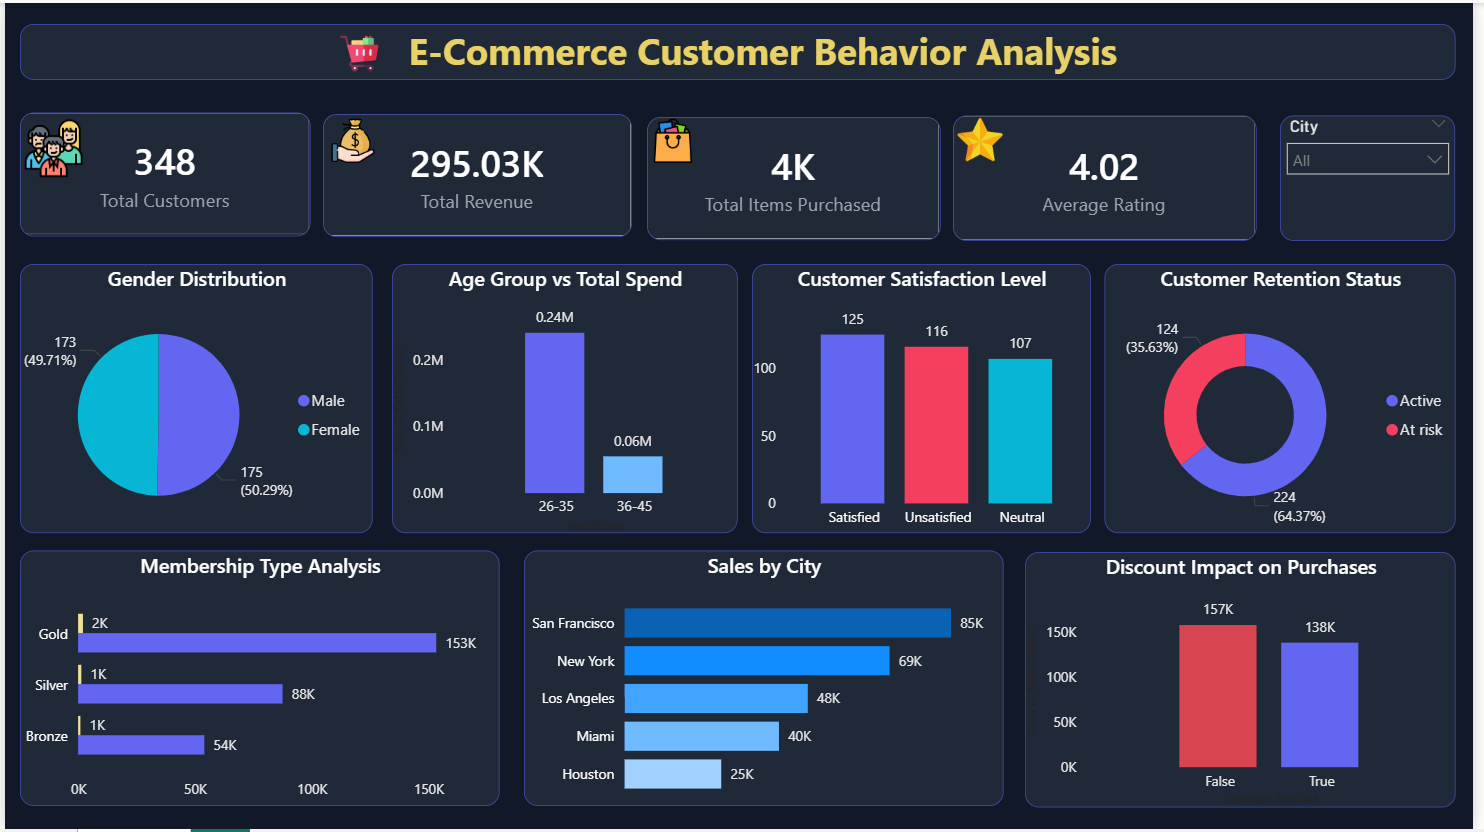

Layout of this report page (visuals, bound fields, positions):
{"tool":"powerbi","page":{"name":"Page 1","canvas":[1364,797],"ordinal":0},"visuals":[{"type":"card","fields":{"Values":["CountNonNull(Table 1 (Sheet1).Customer ID)"]},"box":[19.1,105.1,275.4,101.9],"z":0},{"type":"image","box":[19,107.4,69.5,55.3],"z":1000},{"type":"card","fields":{"Values":["Sum(Table 1 (Sheet1).Total Spend)"]},"box":[307.6,105.1,273.8,103.5],"z":2000},{"type":"card","fields":{"Values":["Sum(Table 1 (Sheet1).Items Purchased)"]},"box":[594.6,106.7,272.2,103.5],"z":3000},{"type":"card","fields":{"Values":["Avg(Table 1 (Sheet1).Average Rating)"]},"box":[879.9,106.7,270.6,103.5],"z":4000},{"type":"shape","box":[19.1,20.7,1326.1,63.7],"z":5000},{"type":"pieChart","title":"Gender Distribution","fields":{"Category":["Table 1 (Sheet1).Gender"],"Y":["CountNonNull(Table 1 (Sheet1).Customer ID)"]},"box":[18.8,237.4,338.7,259.1],"z":6000},{"type":"clusteredColumnChart","title":"Age Group vs Total Spend","fields":{"Category":["Table 1 (Sheet1).Age Group"],"Y":["Sum(Table 1 (Sheet1).Total Spend)"]},"box":[370.4,237.2,313.6,259.5],"z":7000},{"type":"clusteredBarChart","title":"Membership Type Analysis","fields":{"Category":["Table 1 (Sheet1).Membership Type"],"Y":["Sum(Table 1 (Sheet1).Total Spend)","Sum(Table 1 (Sheet1).Items Purchased)"]},"box":[18.8,522.5,425.5,262],"z":8000},{"type":"barChart","title":"Sales by City","fields":{"Category":["Table 1 (Sheet1).City"],"Y":["Sum(Table 1 (Sheet1).Total Spend)"]},"box":[462.2,522.5,455.9,262],"z":9000},{"type":"clusteredColumnChart","title":"Customer Satisfaction Level","fields":{"Category":["Table 1 (Sheet1).Satisfaction Level"],"Y":["CountNonNull(Table 1 (Sheet1).Customer ID)"]},"box":[696.2,237.2,320,259.5],"z":10000},{"type":"clusteredColumnChart","title":"Discount Impact on Purchases","fields":{"Category":["Table 1 (Sheet1).Discount Applied"],"Y":["Sum(Table 1 (Sheet1).Total Spend)"]},"box":[936,522.1,409.1,262.7],"z":11000},{"type":"donutChart","title":"Customer Retention Status","fields":{"Y":["CountNonNull(Table 1 (Sheet1).Customer ID)"],"Category":["Table 1 (Sheet1).Customer Status"]},"box":[1028.4,237.2,316.8,259.5],"z":12000},{"type":"textbox","box":[293.8,21.7,803.3,63.7],"z":13000},{"type":"slicer","fields":{"Values":["Table 1 (Sheet1).City"]},"box":[1163.7,111.4,181.5,98.7],"z":14000},{"type":"image","box":[296.7,110,73.8,46.3],"z":15000},{"type":"image","box":[594.9,110,49.2,44.9],"z":16000},{"type":"image","box":[880,111.4,50.7,37.6],"z":17000},{"type":"image","box":[367.6,30.4,50.7,44.9],"z":18000}]}

Visuals, with their boxes in screenshot pixels (x1, y1, x2, y2):
card - CountNonNull(Table 1 (Sheet1).Customer ID): [2,85,306,198]
image: [2,88,78,149]
card - Sum(Table 1 (Sheet1).Total Spend): [321,85,623,200]
card - Sum(Table 1 (Sheet1).Items Purchased): [638,87,939,201]
card - Avg(Table 1 (Sheet1).Average Rating): [953,87,1252,201]
shape: [2,0,1467,62]
"Gender Distribution" pieChart: [1,231,376,518]
"Age Group vs Total Spend" clusteredColumnChart: [390,231,737,518]
"Membership Type Analysis" clusteredBarChart: [1,546,472,831]
"Sales by City" barChart: [491,546,995,831]
"Customer Satisfaction Level" clusteredColumnChart: [750,231,1104,518]
"Discount Impact on Purchases" clusteredColumnChart: [1015,546,1467,831]
"Customer Retention Status" donutChart: [1117,231,1467,518]
textbox: [305,0,1193,63]
slicer - Table 1 (Sheet1).City: [1267,92,1467,201]
image: [309,91,390,142]
image: [638,91,692,140]
image: [953,92,1009,134]
image: [387,3,443,52]
